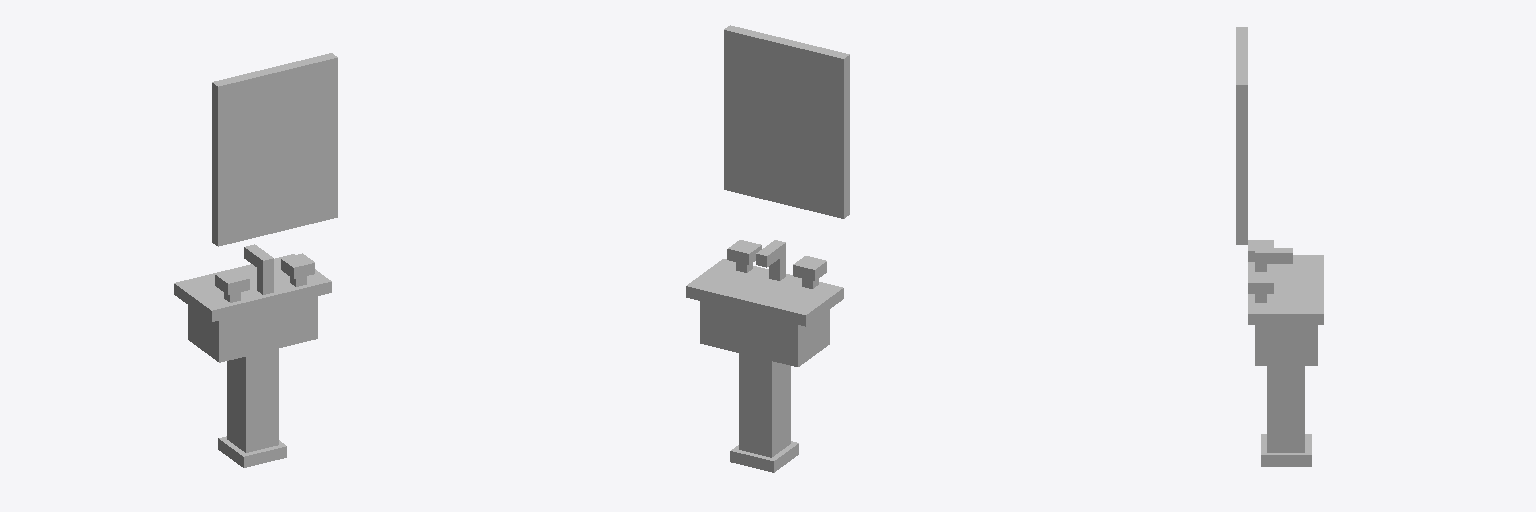
File: pia_banheiro.obj
3 renders of one model, left to right at view 1: azimuth 30°, elevation 25°; view 2: azimuth 150°, elevation 25°; view 3: azimuth 270°, elevation 25°, orthographic.
Visible parts, largest first — view 1: Block1, Block; view 2: Block1, Block; view 3: Block, Block1.
Part boxes in pixels (bbox=[...]): Block1: bbox=[212, 53, 337, 246]; Block: bbox=[174, 244, 331, 467]; Block1: bbox=[724, 25, 849, 218]; Block: bbox=[686, 240, 843, 472]; Block: bbox=[1248, 240, 1323, 466]; Block1: bbox=[1236, 27, 1247, 244].
Bounding box in the file's own units: 0.6875 × 2.19 × 0.4375.